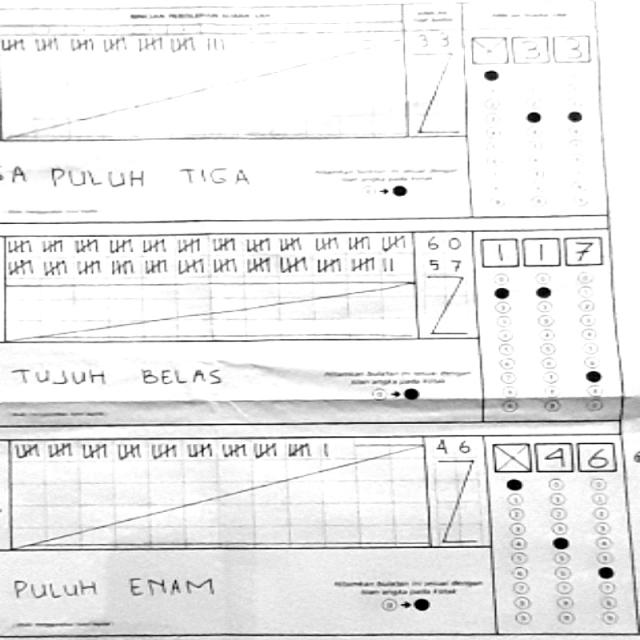Suara: (487, 434, 621, 476), (463, 28, 597, 70), (471, 228, 605, 270)
